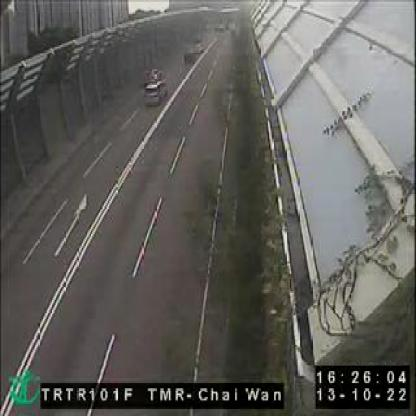Car: (145, 80, 167, 105)
